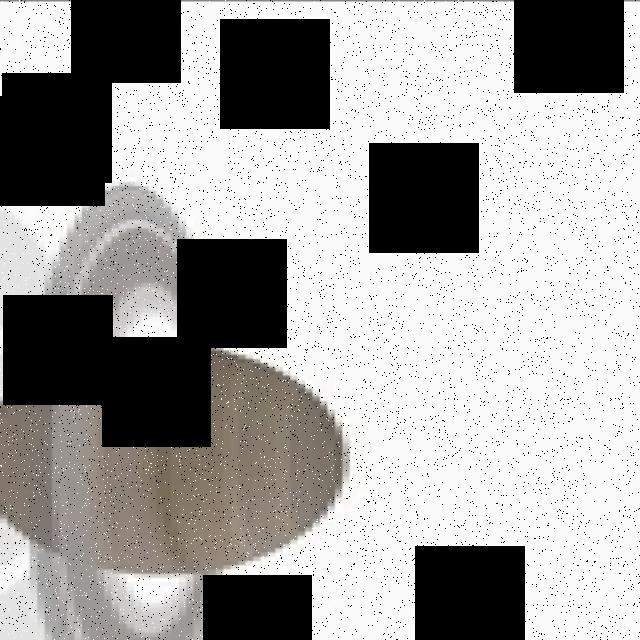Saturn: (0, 181, 357, 640)
